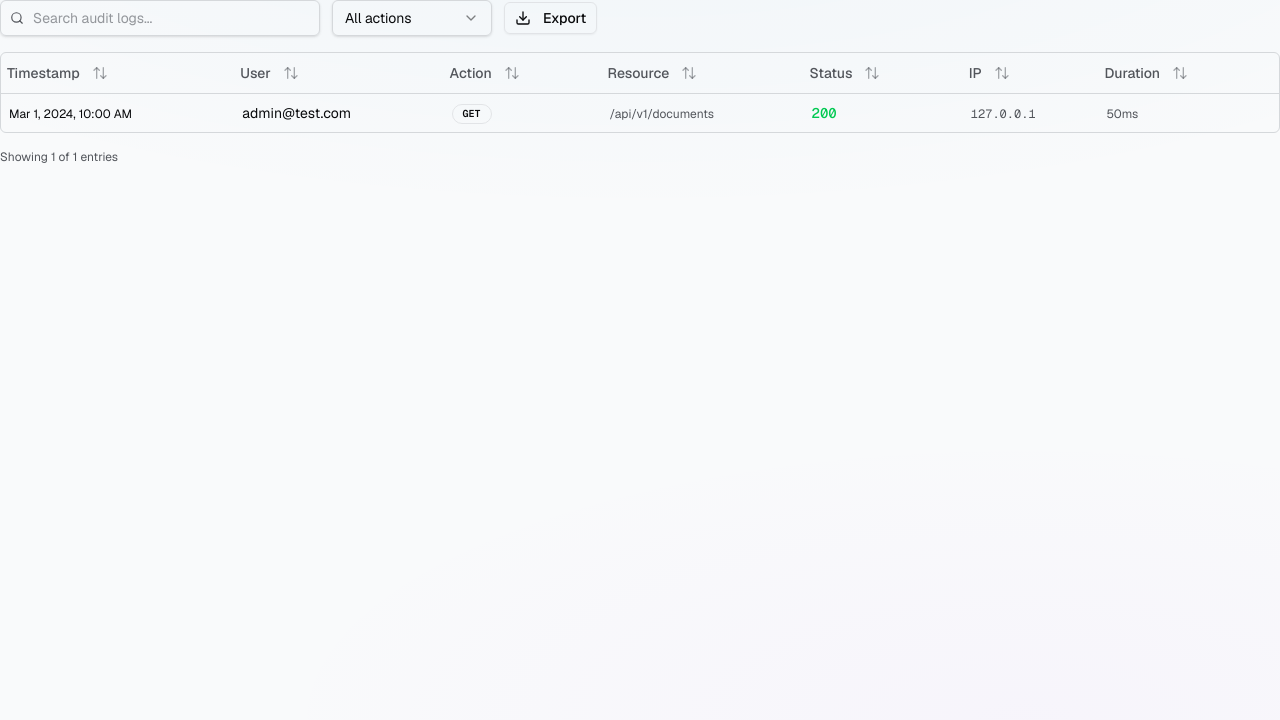
Test case: AuditLogTable export dialog › opens export dialog when export button is clicked
Click the button with test id "server-export-button".
click(551, 18)  # box [504, 2, 597, 34]
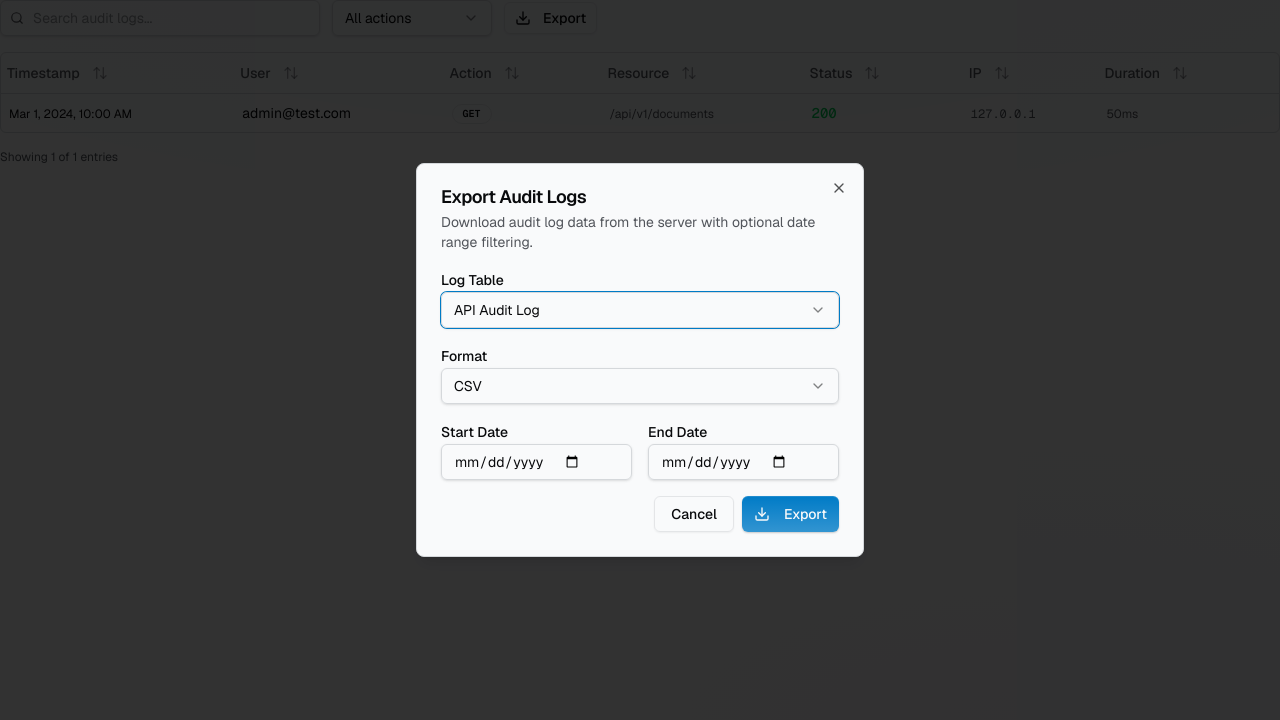
Expected: the dialog with test id "audit-export-dialog" is shown, [416, 163, 864, 557]
Expected: the heading "Export Audit Logs" is shown, [441, 185, 586, 208]
